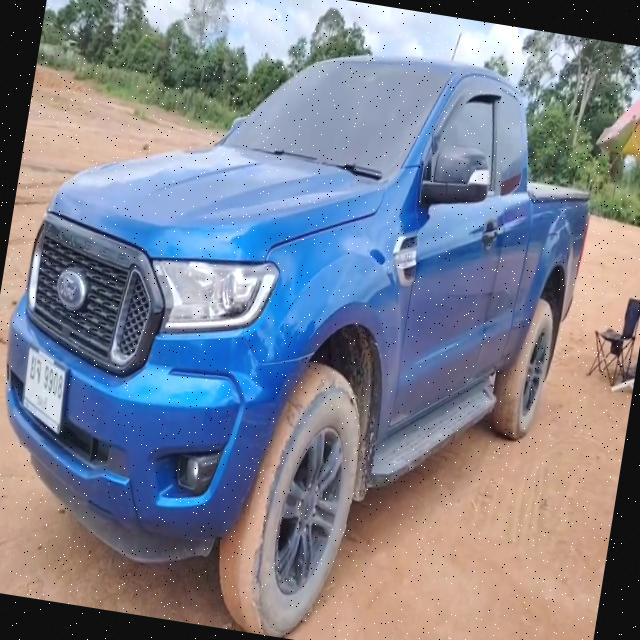Digit: (43, 365, 63, 401)
Licenseplate: (22, 345, 67, 435)
Provincename: (36, 394, 48, 415)
Thaichar: (29, 355, 42, 384)
